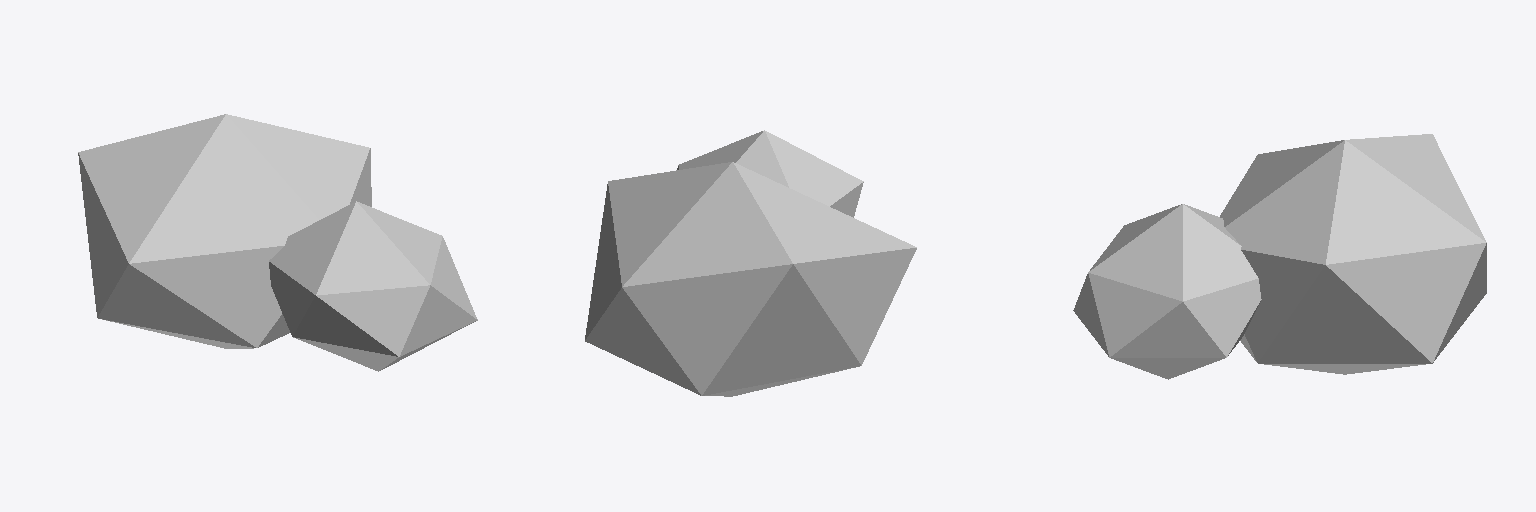
The model's file is treeleaves.obj.
The picture shows the model from 3 angles: view 1: azimuth 30°, elevation 25°; view 2: azimuth 150°, elevation 25°; view 3: azimuth 270°, elevation 25°; orthographic projection.
Parts seen in each view (by area): view 1: Cylinder.001_Cylinder.003; view 2: Cylinder.001_Cylinder.003; view 3: Cylinder.001_Cylinder.003.
Boxes of the visible parts, <box> form: Cylinder.001_Cylinder.003: <box>78,114,477,371</box>; Cylinder.001_Cylinder.003: <box>585,130,916,396</box>; Cylinder.001_Cylinder.003: <box>1073,134,1486,379</box>.
Size of the model in its own units: 1.92 by 1.56 by 2.48.